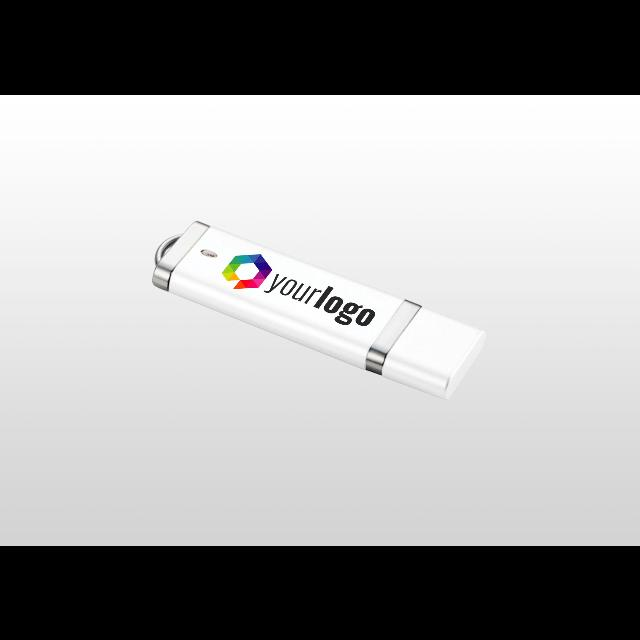USB-Flash-Drive: (150, 220, 488, 403)
